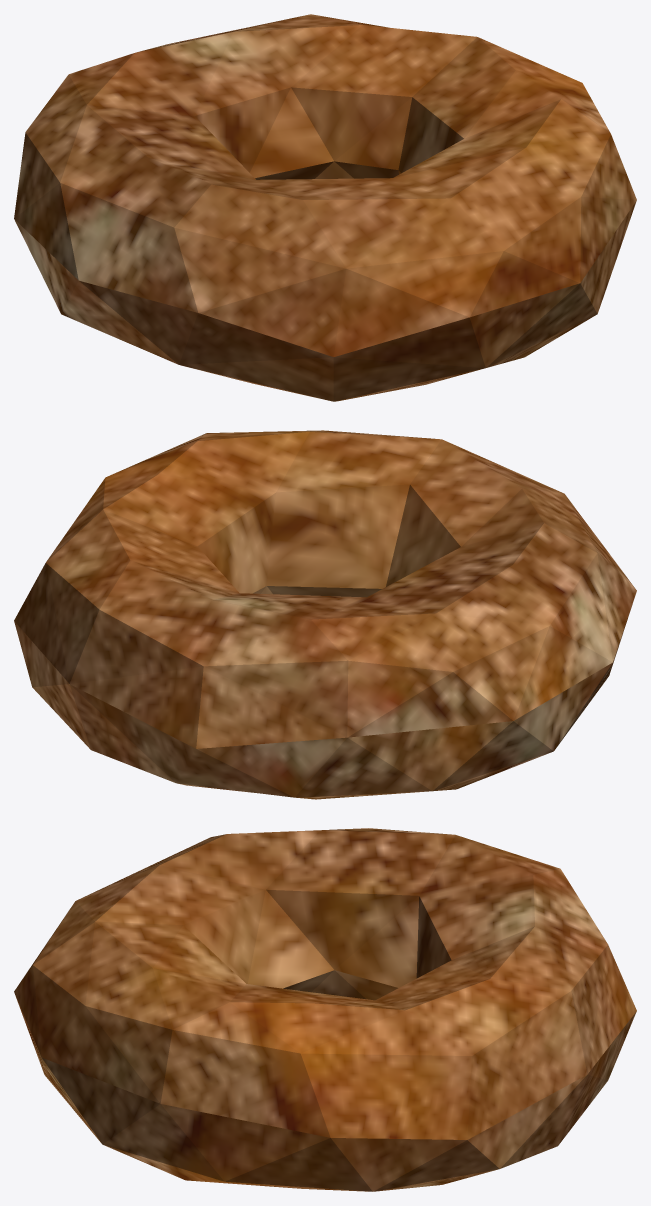
File: ITFO_APPLEPIE.glb
3 renders of one model, top to bottom at view 1: azimuth 30°, elevation 25°; view 2: azimuth 150°, elevation 25°; view 3: azimuth 270°, elevation 25°, orthographic. The views are drawn at different scales.
Parts seen in each view (by area): view 1: ITFO_APPLEPIE; view 2: ITFO_APPLEPIE; view 3: ITFO_APPLEPIE.
Part boxes in pixels (x1,y1,x2,y2): ITFO_APPLEPIE: (14,14,636,401); ITFO_APPLEPIE: (14,430,636,799); ITFO_APPLEPIE: (14,828,636,1191).
Size of the model in its own units: 0.2238 by 0.0793 by 0.2291.
1 material, 1 textured.
